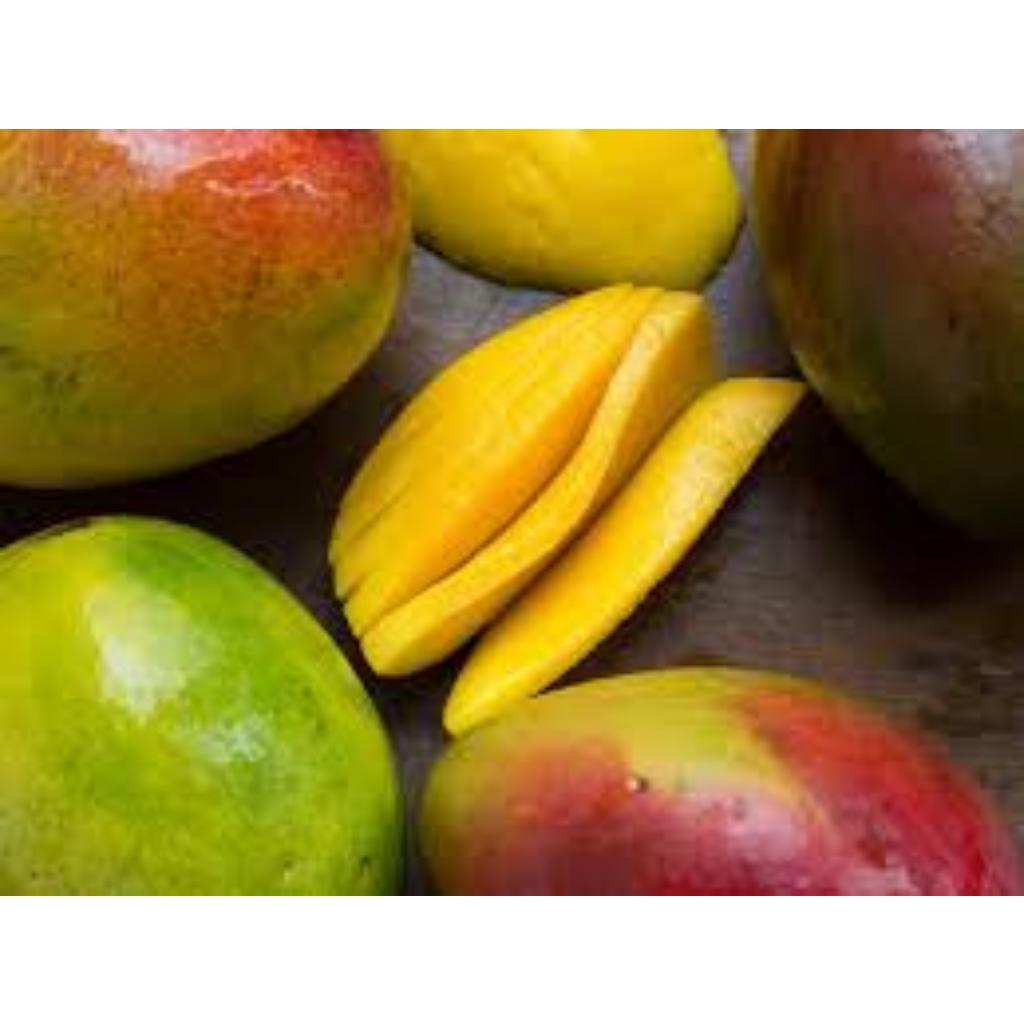mango: (327, 284, 815, 729), (0, 507, 398, 895), (0, 128, 413, 492), (415, 682, 1024, 895), (372, 128, 759, 298)
